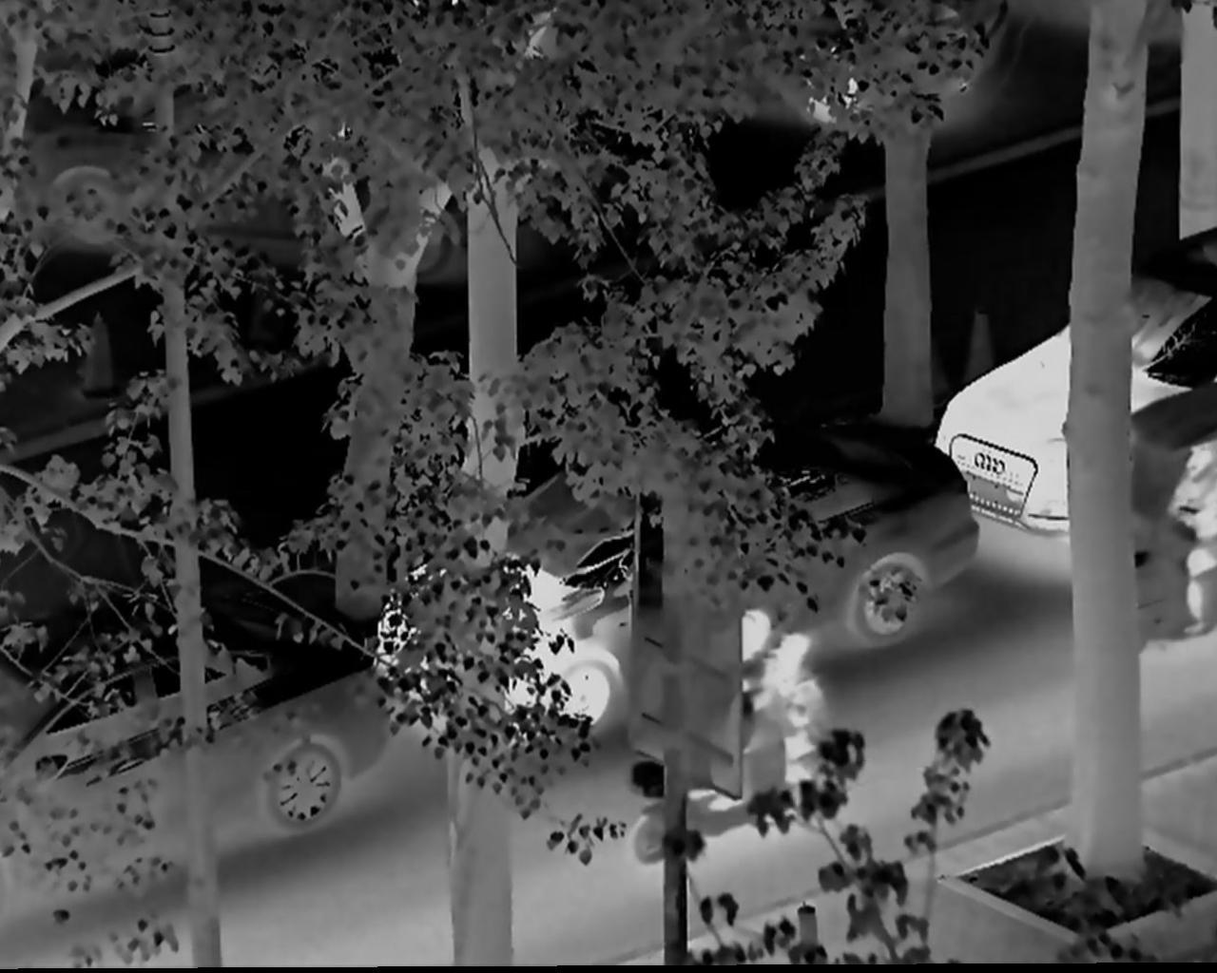person: (725, 604, 833, 802), (1157, 440, 1217, 645)
